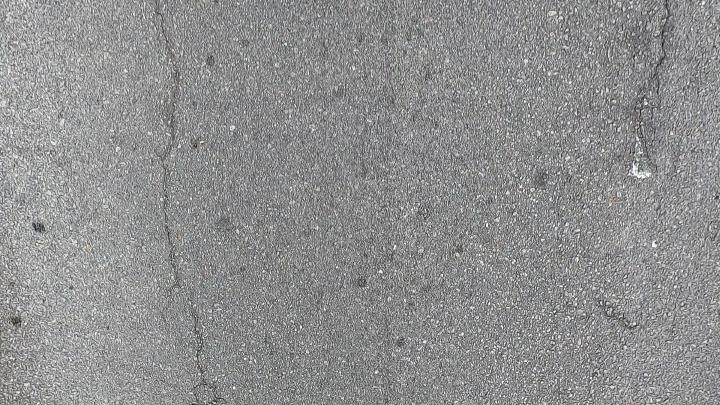Crack: (144, 0, 223, 405), (157, 0, 184, 302), (633, 0, 677, 183), (639, 0, 669, 168), (185, 295, 225, 404)
